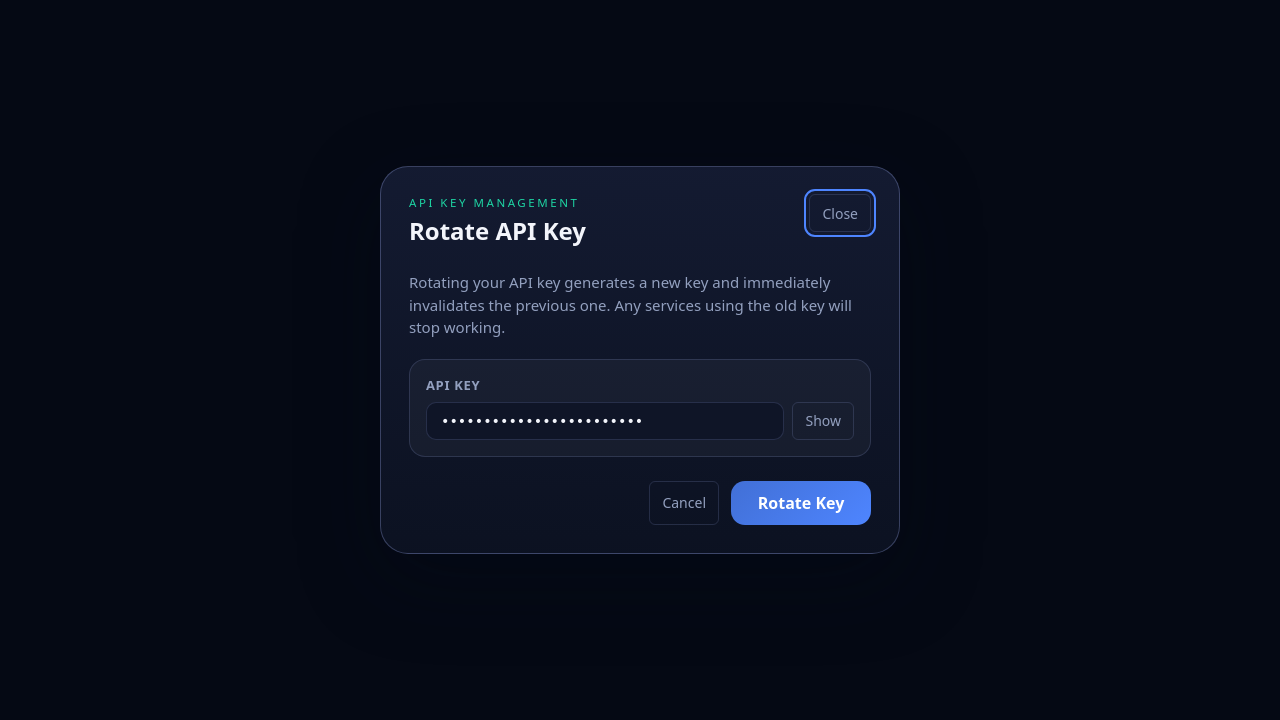
KeyRotationModal › requests token on confirm then rotates key successfully
The image size is (1280, 720).
Click the button "Rotate Key": (801, 503) [731, 481, 871, 525]
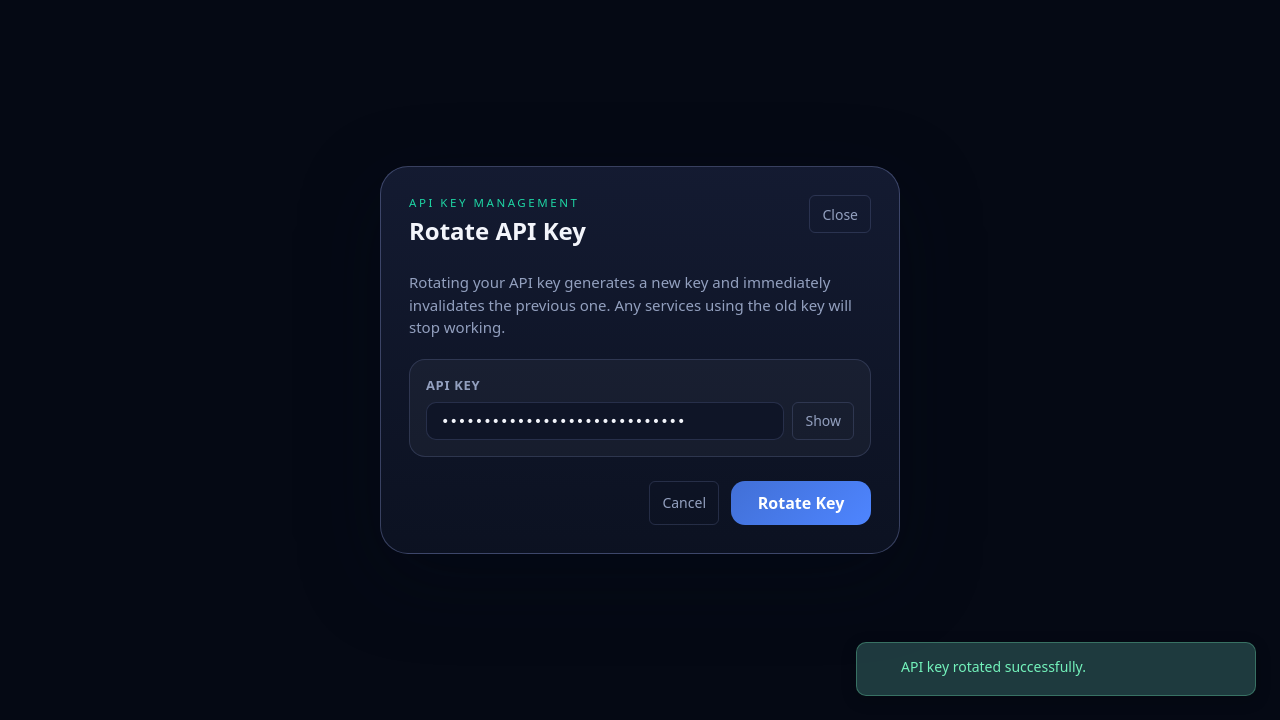
expect the password field showing "ck_live_newly_rotated_key_222" is shown: met, box [426, 402, 784, 440]
